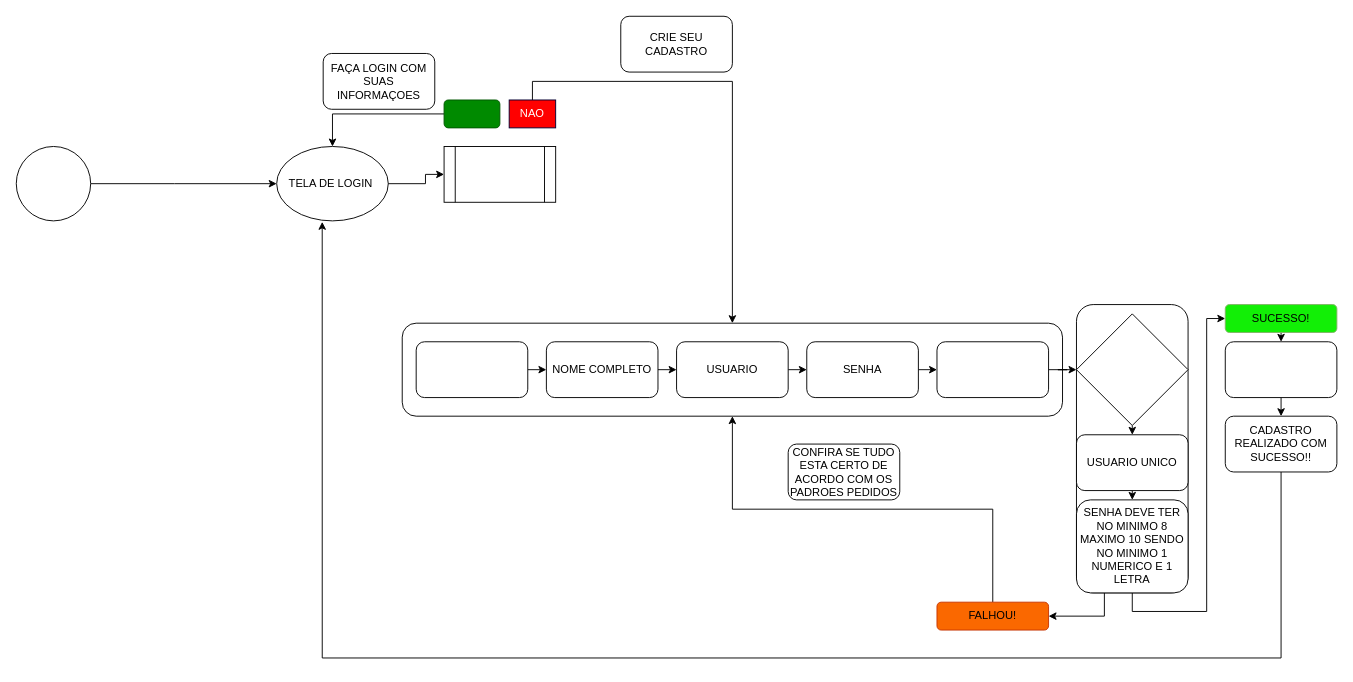
Some shapes in this 1353 by 682 pixel diagram are drawn without their labels. The centre of each missing label's shape, as x and y in pixels:
"CADASTRO" belongs at point 471,369.
"INICIO" belongs at point 53,183.
"SE TUDO ESTIVER CORRETO" belongs at point 1280,369.
"SIM" belongs at point 471,113.
"TEM LOGIN ?" belongs at point 499,174.
"TURMA" belongs at point 992,369.
"VALIDAÇAO DE DADOS" belongs at point 1132,369.
